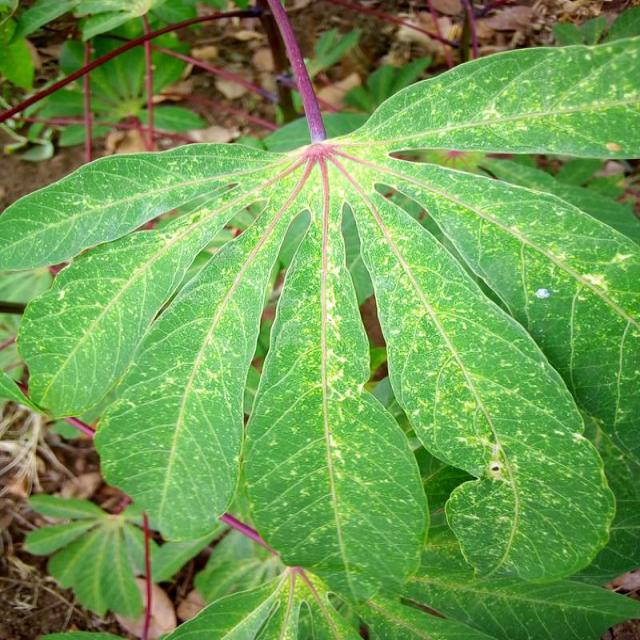cassava leaf: (1, 10, 638, 636)
